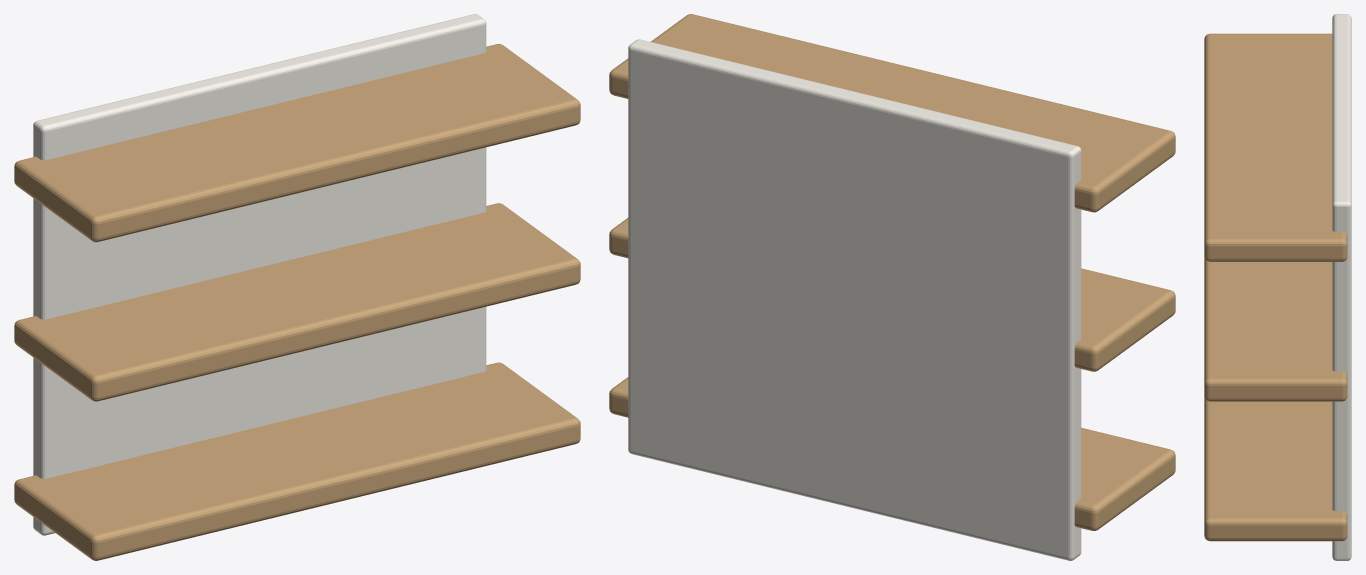
File: floating-shelf.glb
3 views of the same model, side by side, from view 1: azimuth 30°, elevation 25°; view 2: azimuth 150°, elevation 25°; view 3: azimuth 270°, elevation 25° (orthographic). The views are drawn at different scales.
Visible parts, largest first — view 1: CANONICAL wall rail, CANONICAL shelf 1, CANONICAL shelf 2, CANONICAL shelf 3; view 2: CANONICAL wall rail, CANONICAL shelf 3, CANONICAL shelf 2, CANONICAL shelf 1; view 3: CANONICAL shelf 3, CANONICAL shelf 1, CANONICAL shelf 2, CANONICAL wall rail.
Boxes of the visible parts, x1,y1,x2,y2 form: CANONICAL wall rail: [33, 14, 486, 535]; CANONICAL shelf 1: [14, 362, 580, 560]; CANONICAL shelf 2: [14, 203, 580, 401]; CANONICAL shelf 3: [14, 44, 580, 242]; CANONICAL wall rail: [628, 39, 1081, 560]; CANONICAL shelf 3: [609, 14, 1175, 212]; CANONICAL shelf 2: [609, 218, 1175, 371]; CANONICAL shelf 1: [609, 377, 1175, 530]; CANONICAL shelf 3: [1204, 33, 1347, 261]; CANONICAL shelf 1: [1204, 397, 1347, 541]; CANONICAL shelf 2: [1204, 257, 1347, 401]; CANONICAL wall rail: [1332, 14, 1351, 560].
Bounding box in the file's own units: 0.9 × 0.72 × 0.2675.
